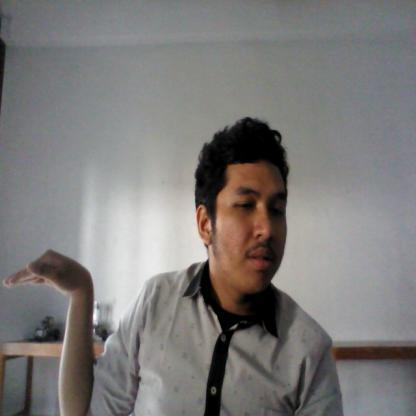Z: (2, 248, 95, 416)
